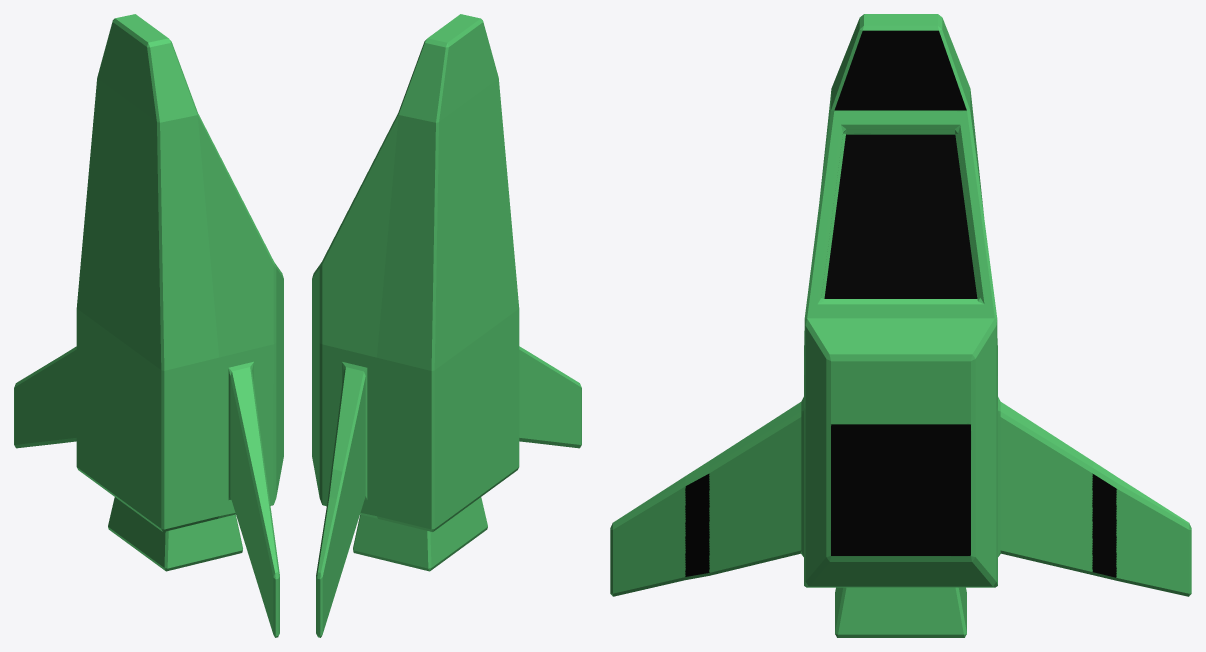
File: GreenShip42.fbx
3 renders of one model, left to right at view 1: azimuth 30°, elevation 25°; view 2: azimuth 150°, elevation 25°; view 3: azimuth 270°, elevation 25°, orthographic. The views are drawn at different scales.
Visible parts, largest first — view 1: Cube.005; view 2: Cube.005; view 3: Cube.005.
Boxes of the visible parts, bbox=[...] form: Cube.005: bbox=[14, 14, 283, 637]; Cube.005: bbox=[312, 14, 581, 637]; Cube.005: bbox=[610, 14, 1191, 637].
Size of the model in its own units: 235 by 882 by 802.
Materials: 1 (1 with a texture image).
